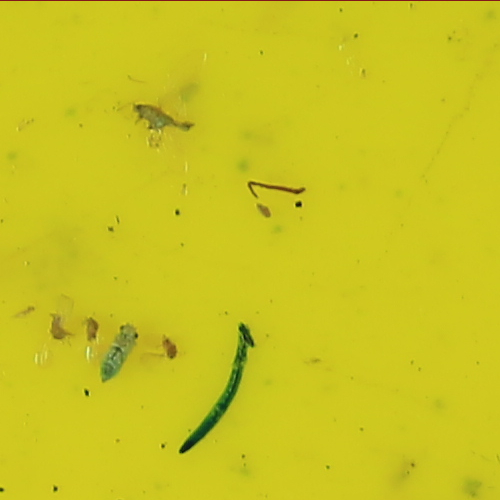Glycaspis: (95, 322, 140, 384), (128, 101, 192, 135)
